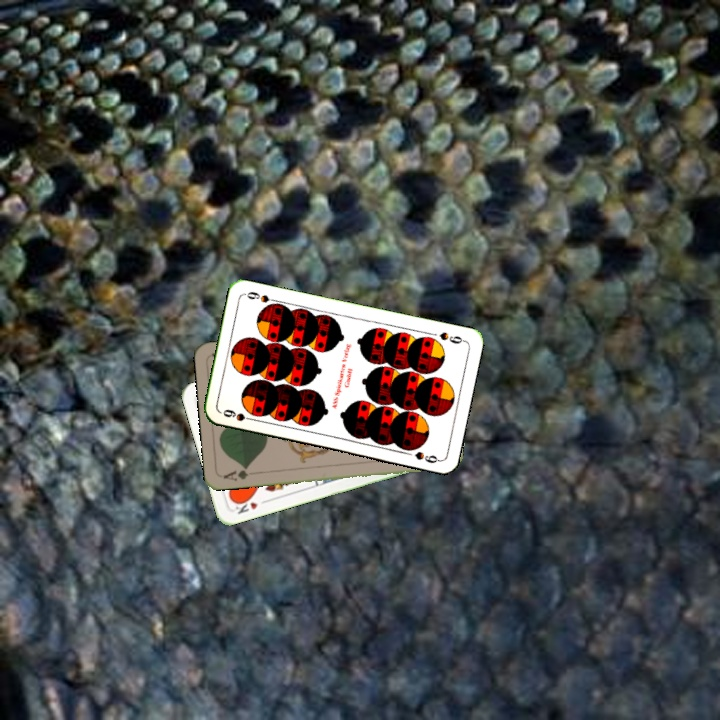GA: (219, 463, 259, 484)
HK: (231, 494, 270, 517)
S9: (219, 405, 258, 424), (435, 328, 467, 346)
